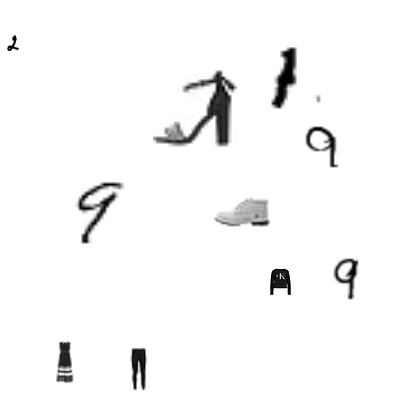1: (242, 33, 326, 117)
2: (2, 33, 24, 55)
9: (52, 162, 136, 246), (294, 113, 350, 169), (320, 247, 376, 303)
Ankle_boot: (214, 184, 270, 240)
Dress: (43, 341, 85, 383)
Pullover: (266, 268, 294, 296)
Sandal: (153, 65, 237, 149)
Trouser: (117, 348, 159, 390)
